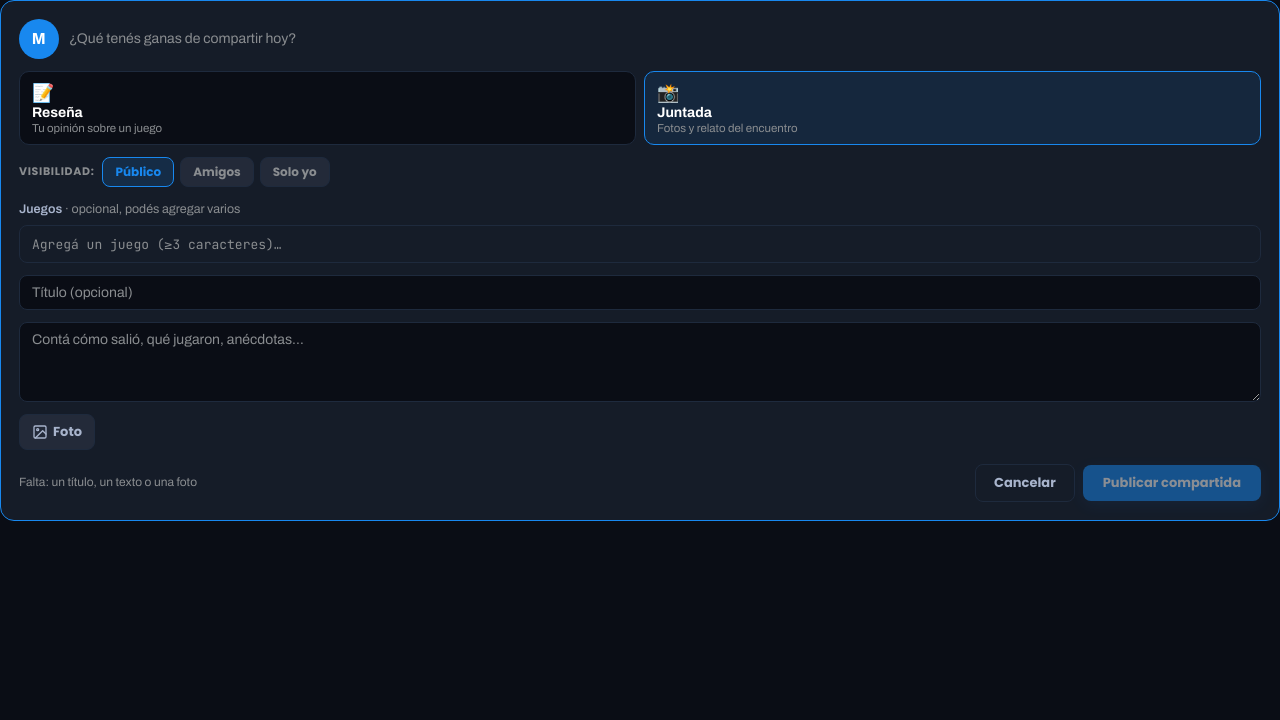
Scenario: <CreateCompartidaForm> › shows an error message when POST fails
Type "Algo pasó" into the text box with placeholder "Contá cómo salió, qué jugaron, anécdotas…" at (640, 362), box [19, 322, 1261, 402]
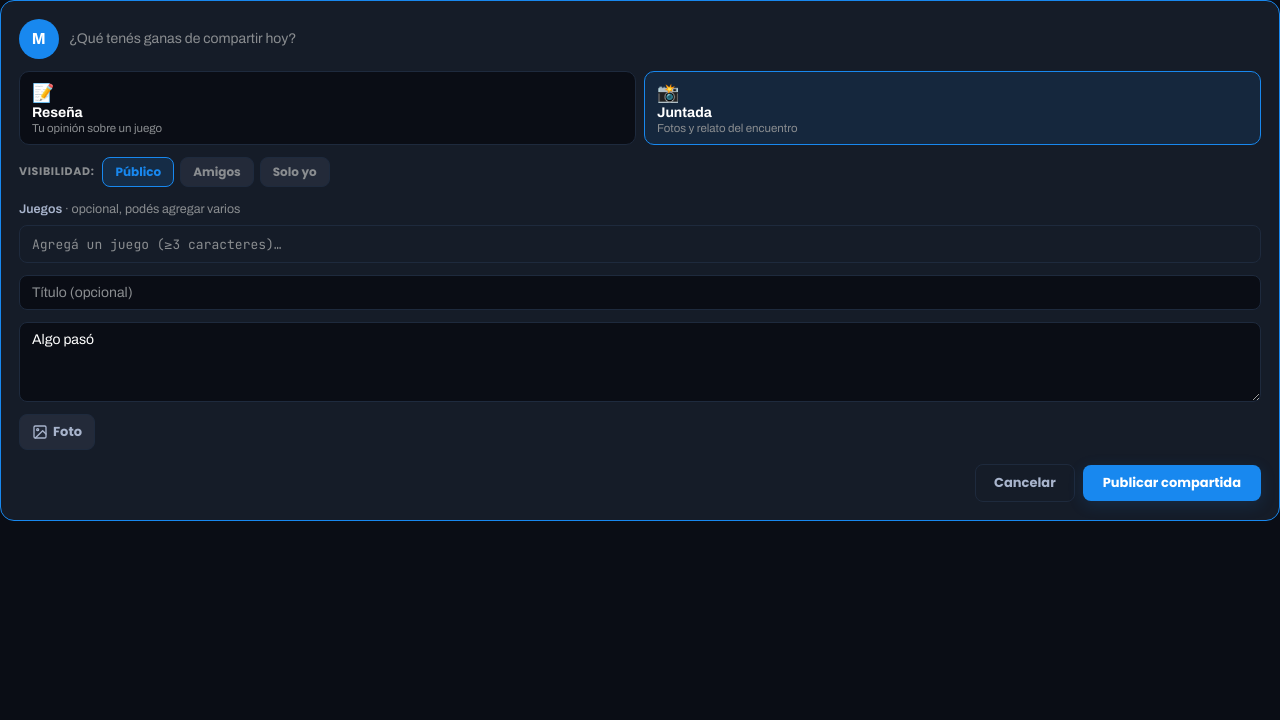
Click the button "Publicar compartida" at (1172, 483), box [1083, 465, 1261, 501]
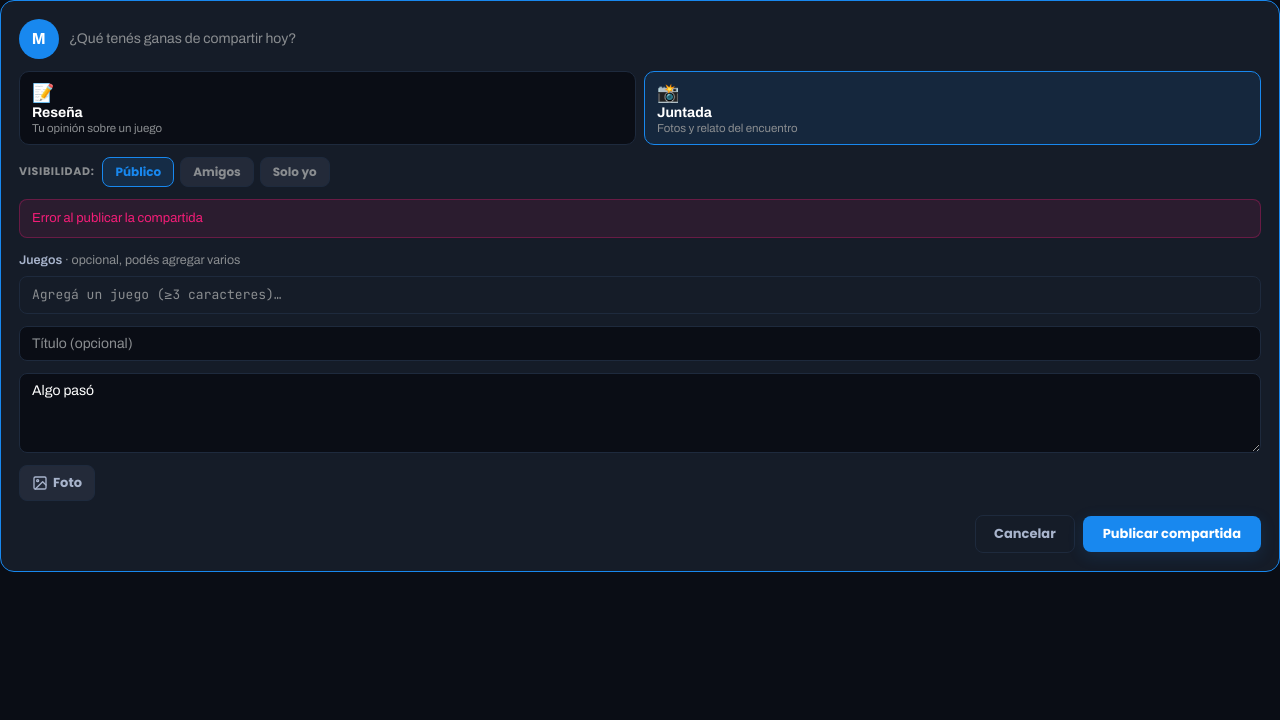
Check: the text "Error al publicar la compartida" is shown, box [19, 199, 1261, 238]
